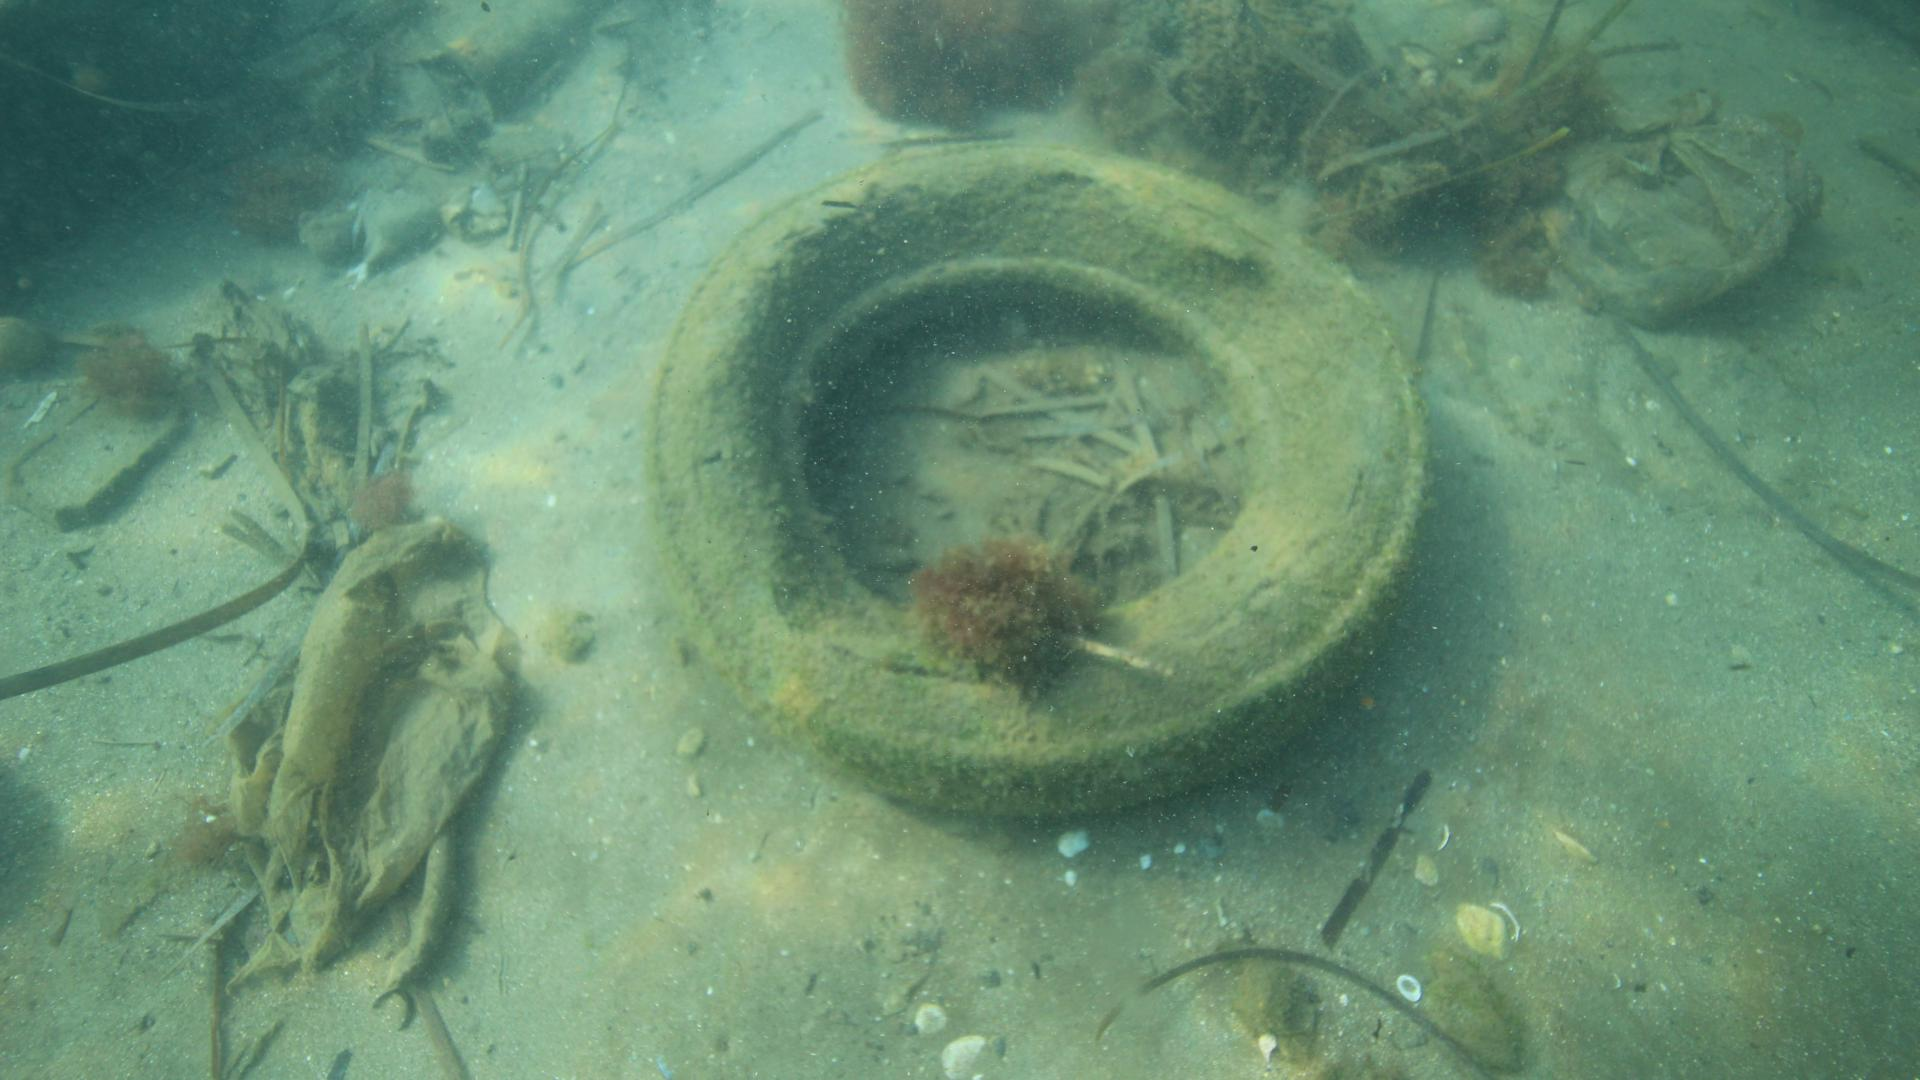tire: (649, 137, 1431, 816)
